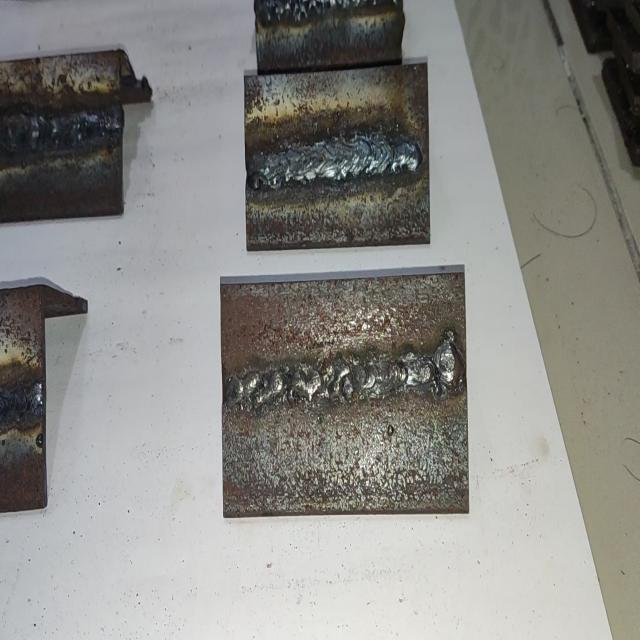Bad Weld: (225, 344, 462, 411), (0, 107, 120, 157), (261, 0, 389, 23)
Defect: (4, 107, 118, 160), (223, 358, 301, 418), (416, 335, 465, 400), (262, 0, 348, 26)
Good Weld: (248, 130, 423, 189), (0, 377, 41, 421)
